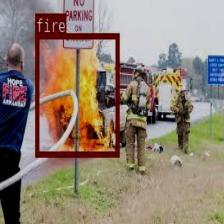fire: (35, 33, 119, 155)
